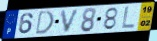6: (19, 12, 34, 35)
8: (80, 6, 97, 33), (103, 7, 119, 30)
D: (34, 9, 55, 36)
L: (121, 5, 136, 29)
V: (60, 8, 81, 34)
